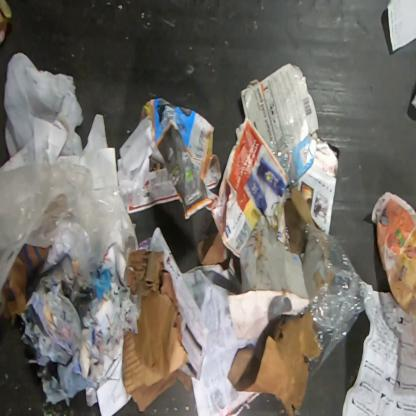cardboard: (122, 249, 192, 412), (228, 213, 310, 340), (227, 311, 322, 416), (241, 62, 319, 186), (284, 186, 316, 258)
soft_plastic: (0, 156, 146, 319), (298, 223, 372, 354), (3, 52, 84, 158)
